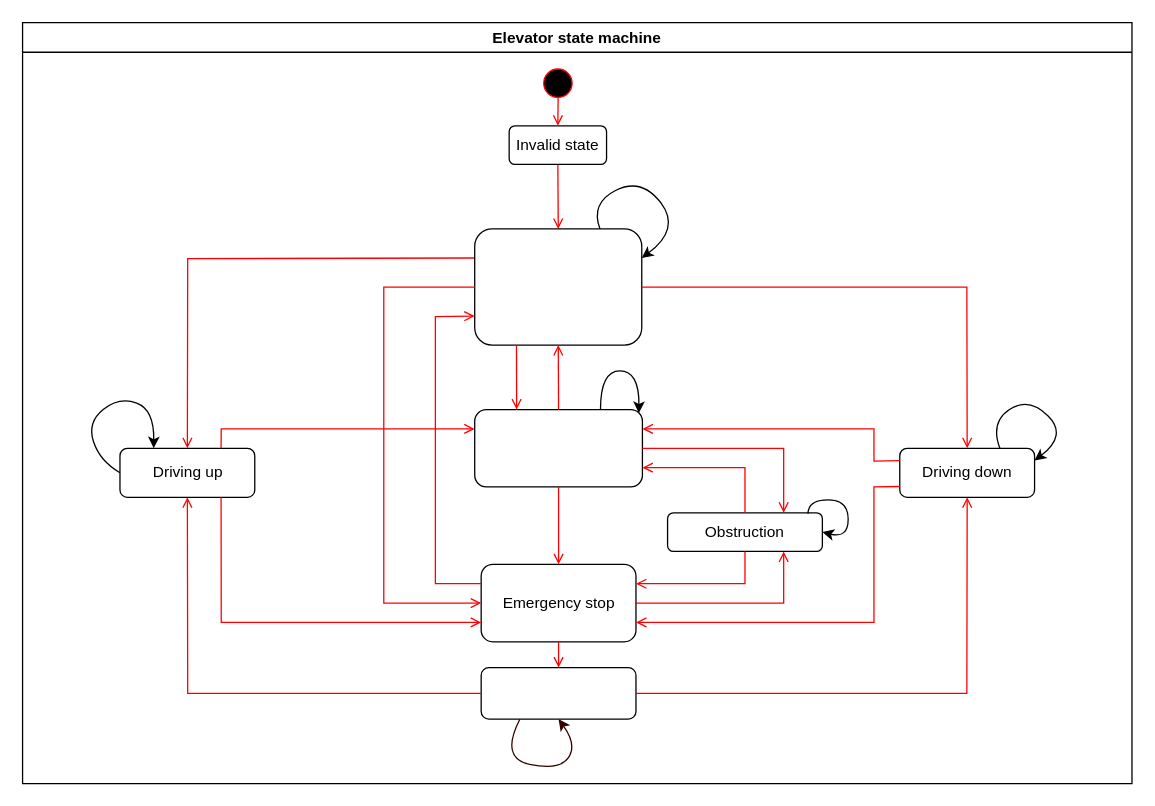
Image size: 1155x806. Some labels were removed from this diagram. Each missing label, with the centre of its shape:
"Idle, at a floor" belongs at point 557,286.
"Idle, inbetween floors" belongs at point 558,692.
"Serving an order" belongs at point 557,447.
